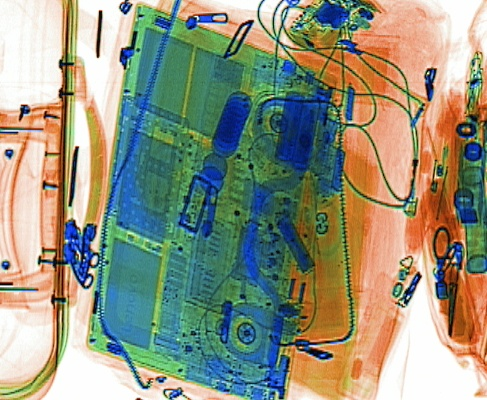lighter: (401, 149, 422, 218)
